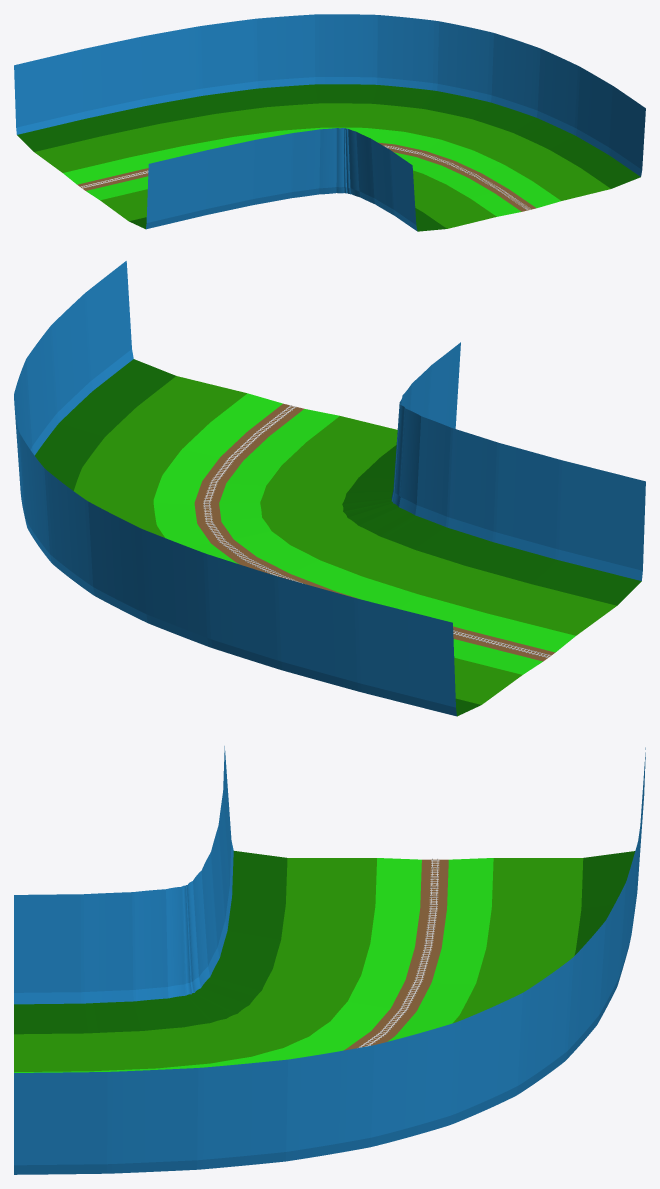
File: 90ºDERfbx.fbx
3 views of the same model, one above another, from view 1: azimuth 30°, elevation 25°; view 2: azimuth 150°, elevation 25°; view 3: azimuth 270°, elevation 25° (orthographic). The views are drawn at different scales.
Parts seen in each view (by area): view 1: 90ºDER; view 2: 90ºDER; view 3: 90ºDER.
Boxes of the visible parts, left/top/right/bottom form: 90ºDER: left=14, top=14, right=645, bottom=231; 90ºDER: left=14, top=261, right=645, bottom=716; 90ºDER: left=14, top=746, right=645, bottom=1174.
Size of the model in its own units: 18420 by 3000 by 15004.
